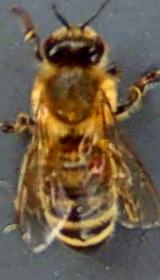varroa_mite: (81, 141, 116, 185)
